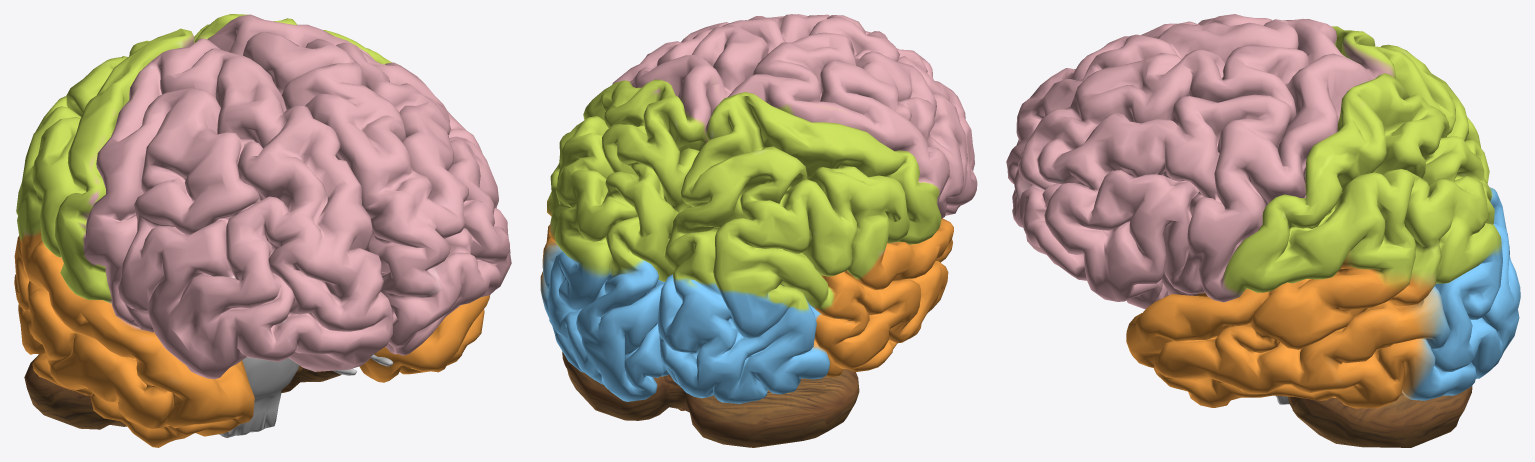
Rendered from DecimatingBrainCollapseVarious.fbx.
The picture shows the model from 3 angles, left to right: view 1: azimuth 30°, elevation 25°; view 2: azimuth 150°, elevation 25°; view 3: azimuth 270°, elevation 25°; orthographic projection. The views are drawn at different scales.
Visible parts, largest first — view 1: hemi_right, hemi_left, Group47710.001, Medulla oblongata; view 2: hemi_right, hemi_left, Group47710.001; view 3: hemi_left, hemi_right, Group47710.001.
Boxes of the visible parts, bbox=[...] form: hemi_right: bbox=[14, 28, 392, 447]; hemi_left: bbox=[193, 14, 511, 382]; Group47710.001: bbox=[24, 356, 341, 429]; Medulla oblongata: bbox=[219, 357, 299, 437]; hemi_right: bbox=[657, 15, 977, 403]; hemi_left: bbox=[540, 14, 829, 401]; Group47710.001: bbox=[562, 351, 859, 447]; hemi_left: bbox=[1012, 44, 1520, 408]; hemi_right: bbox=[1006, 14, 1509, 254]; Group47710.001: bbox=[1288, 386, 1472, 447].
Size of the model in its own units: 1227 by 1133 by 1460.
